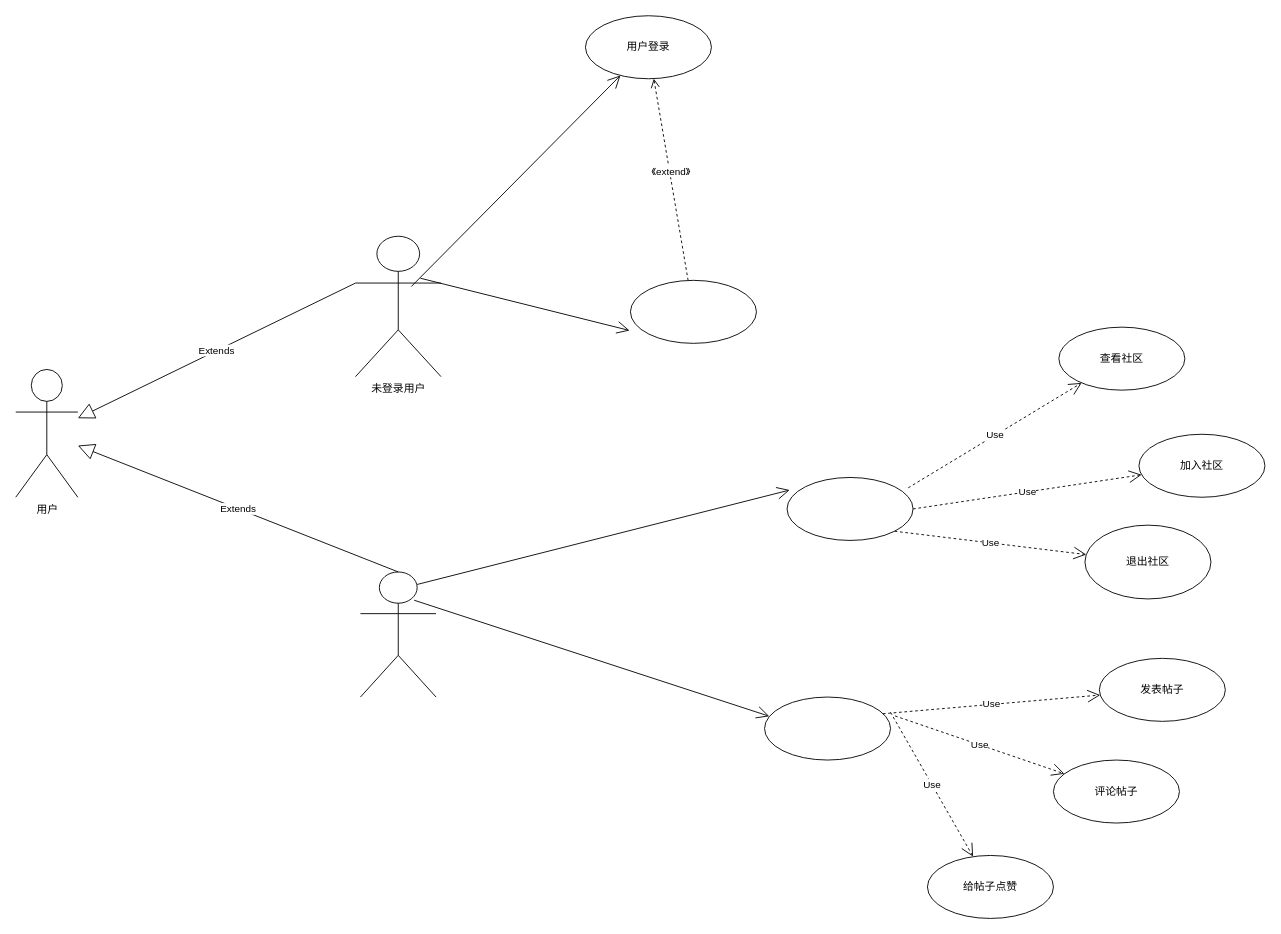
Some shapes in this 1281 by 934 pixel diagram are drawn without their labels. The centre of each missing label's shape, as x and y in pixels:
帖子管理: the point at 827,728
用户注册: the point at 693,311
登录用户: the point at 398,634
社区管理: the point at 849,508
